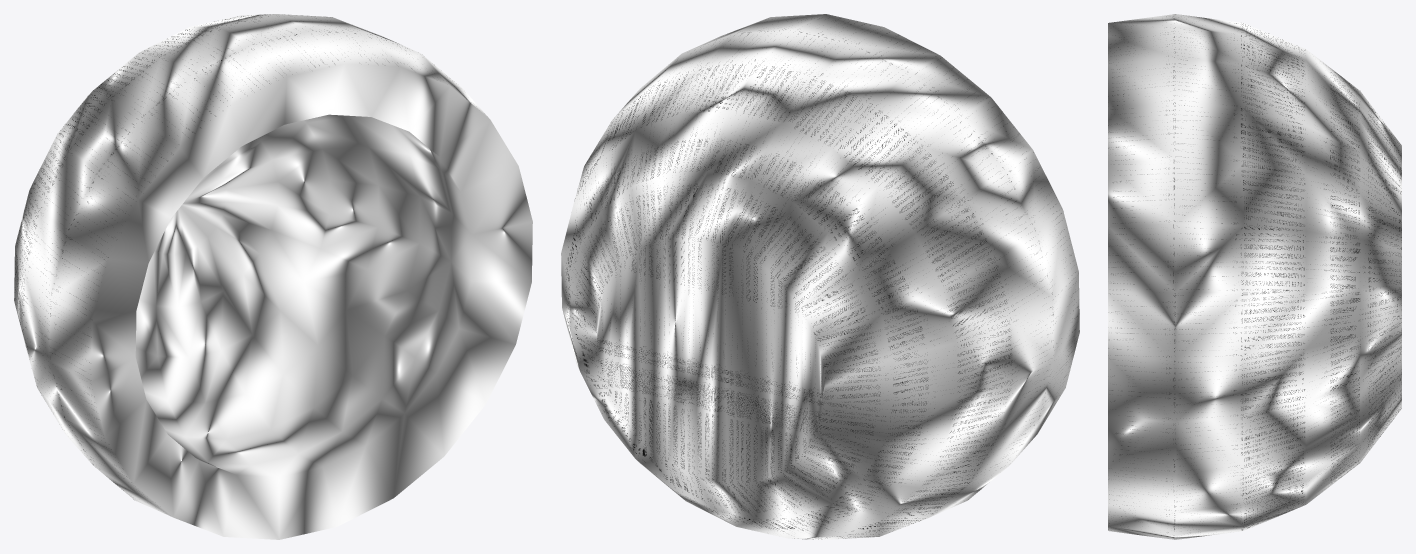
The model's file is model_align.obj.
3 views of the same model, side by side, from view 1: azimuth 30°, elevation 25°; view 2: azimuth 150°, elevation 25°; view 3: azimuth 270°, elevation 25° (orthographic).
Bounding box in the file's own units: 0.1591 × 0.1591 × 0.0893.
